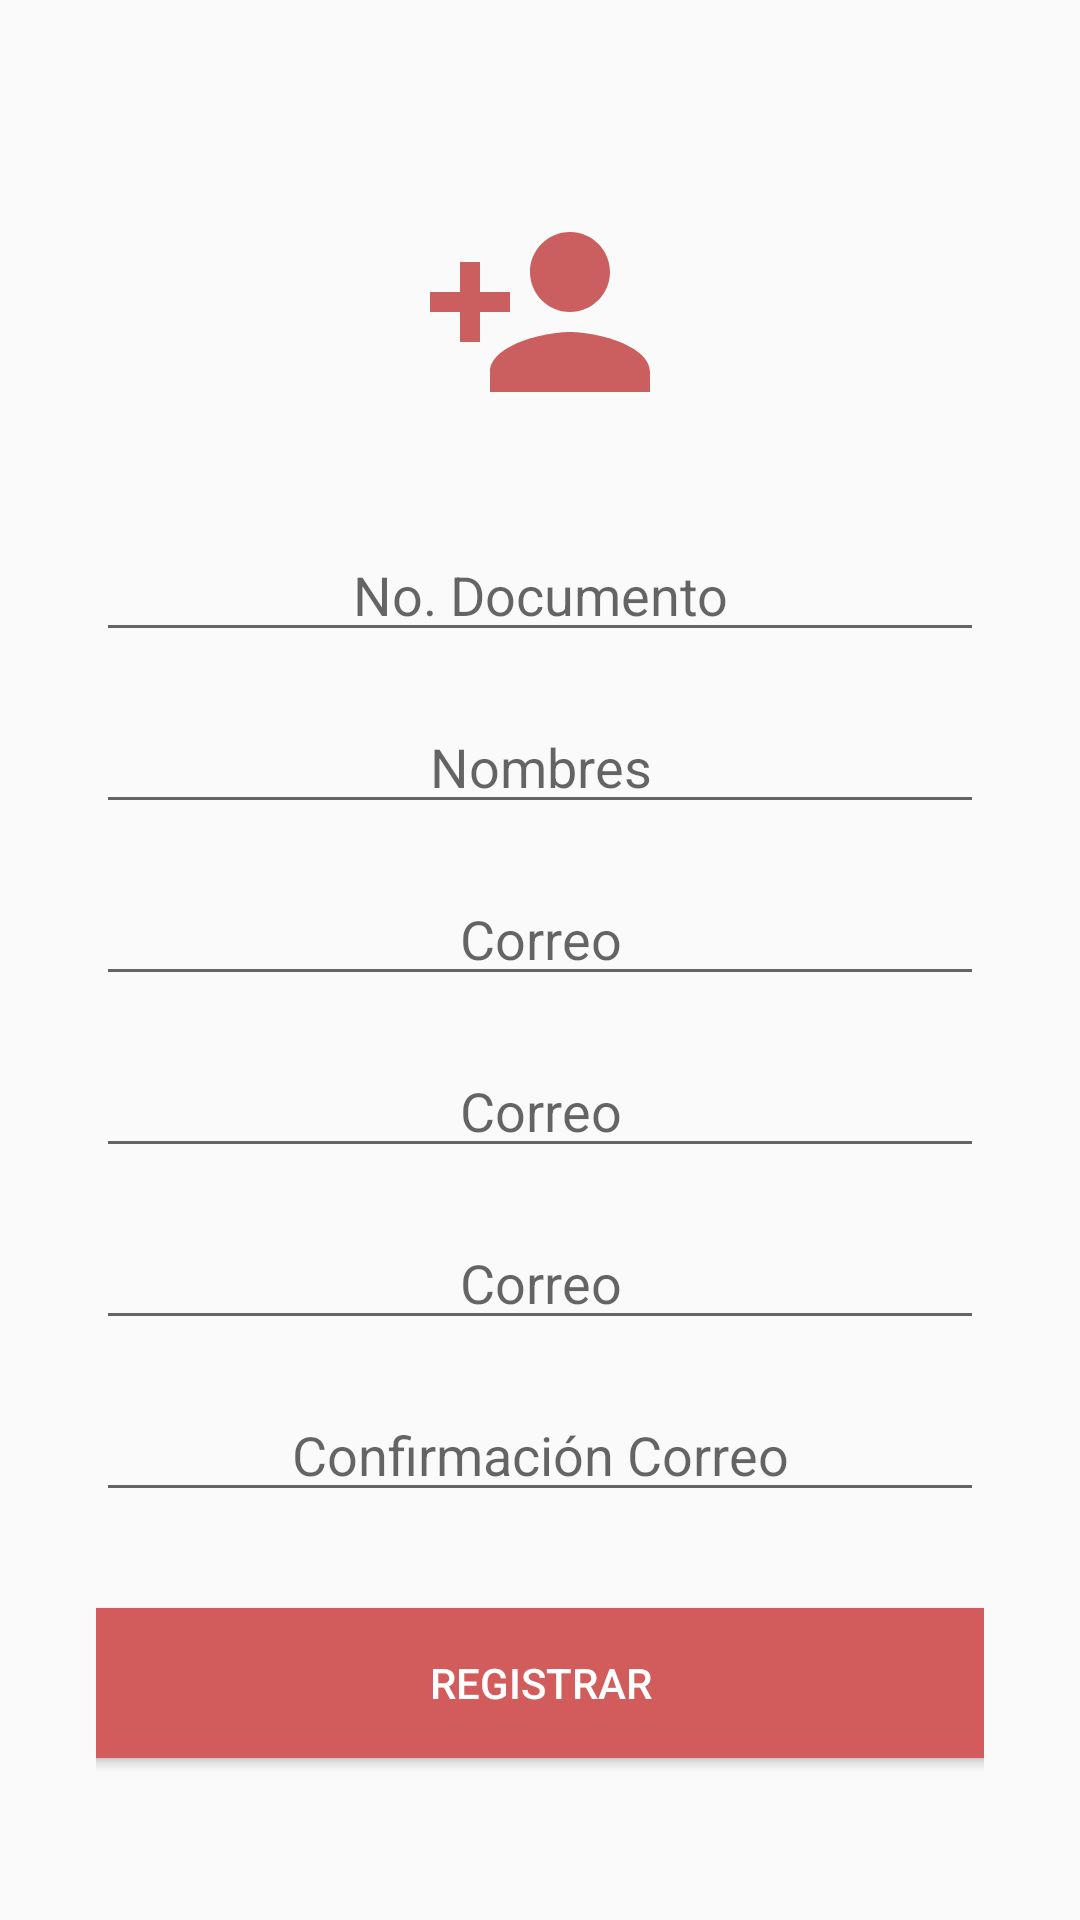

Named icons in this screenshot (1080 x 1920) and their centers, (x,y):
add: (540,312)
